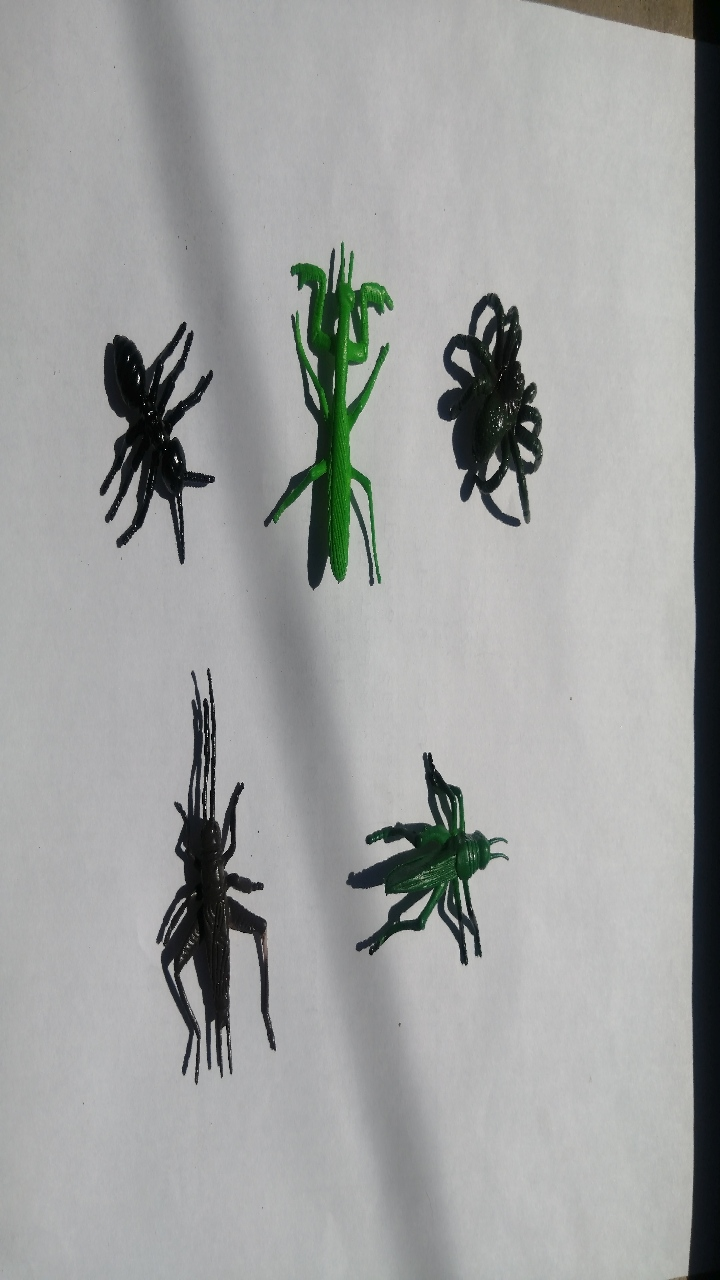intruso: (132, 651, 304, 1095), (257, 219, 414, 608), (326, 732, 528, 1003), (49, 288, 235, 579), (417, 217, 560, 535)
